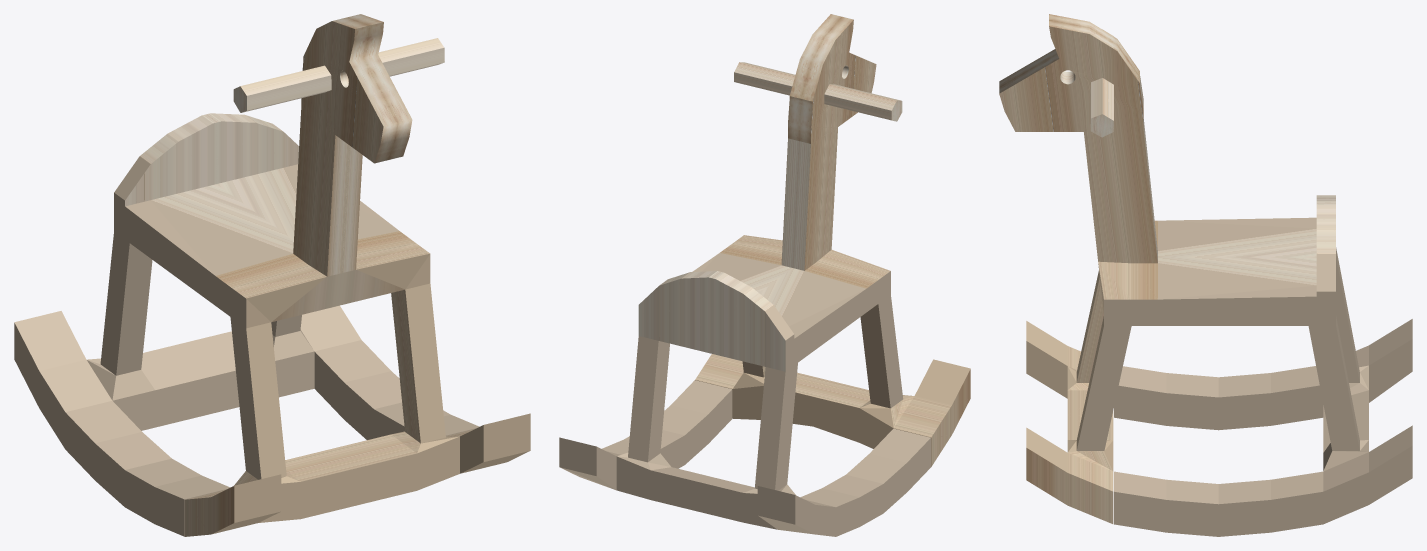
3 renders of one model, left to right at view 1: azimuth 30°, elevation 25°; view 2: azimuth 150°, elevation 25°; view 3: azimuth 270°, elevation 25°, orthographic. The views are drawn at different scales.
Visible parts, largest first — view 1: Box002; view 2: Box002; view 3: Box002.
Part boxes in pixels (<box>): Box002: <box>14,14,530,536</box>; Box002: <box>559,14,970,536</box>; Box002: <box>999,14,1412,536</box>.
Bounding box in the file's own units: 51.54 × 70.96 × 85.81.
Materials: 1 (1 with a texture image).
